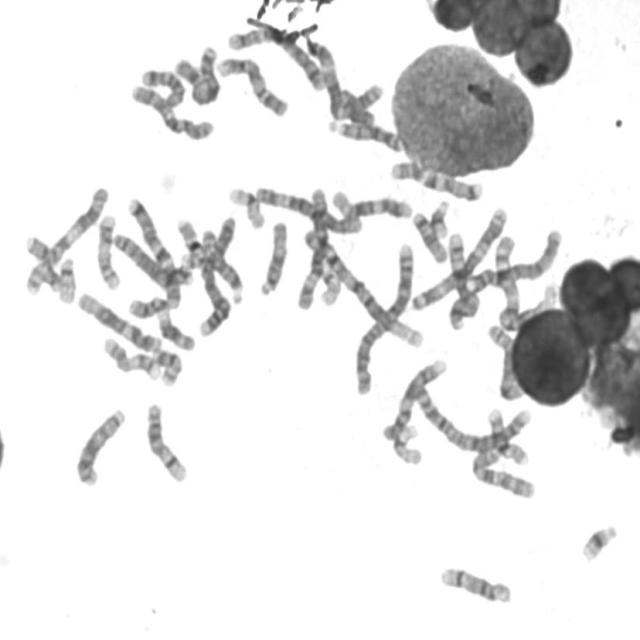A1: (298, 224, 426, 351), (493, 234, 559, 332)
A2: (407, 376, 534, 462), (349, 236, 416, 397)
A3: (406, 202, 511, 312), (300, 29, 387, 120)
B4: (462, 229, 563, 298), (194, 212, 240, 339)
B5: (224, 20, 328, 92), (445, 230, 482, 331)
C10: (126, 78, 217, 143), (471, 446, 536, 502)
C11: (24, 186, 110, 270), (124, 290, 198, 353)
C12: (74, 286, 164, 354), (328, 184, 414, 222)
C6: (252, 180, 365, 235), (293, 181, 331, 312)
C7: (123, 192, 184, 311), (386, 154, 486, 202)
C8: (109, 228, 195, 289), (485, 325, 526, 402)
C9: (379, 352, 450, 443), (214, 50, 291, 119)
D13: (71, 401, 129, 488), (324, 114, 405, 153)
D14: (141, 397, 191, 484), (435, 560, 515, 606)
D15: (196, 226, 246, 306), (255, 214, 291, 298)
E16: (482, 402, 531, 467), (173, 212, 209, 270)
E17: (99, 330, 164, 381), (93, 207, 123, 291)
E18: (137, 62, 188, 110), (408, 206, 450, 264)
F19: (224, 180, 268, 230), (388, 418, 424, 467)
F20: (150, 342, 185, 388), (21, 259, 63, 293)
G21: (576, 517, 620, 564), (426, 194, 452, 238)
G22: (54, 251, 78, 305), (315, 262, 343, 307)
X: (170, 39, 223, 107)
Y: (339, 88, 376, 128)
